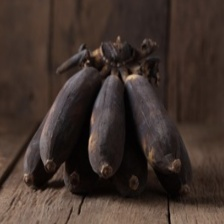banana: (50, 8, 215, 188)
